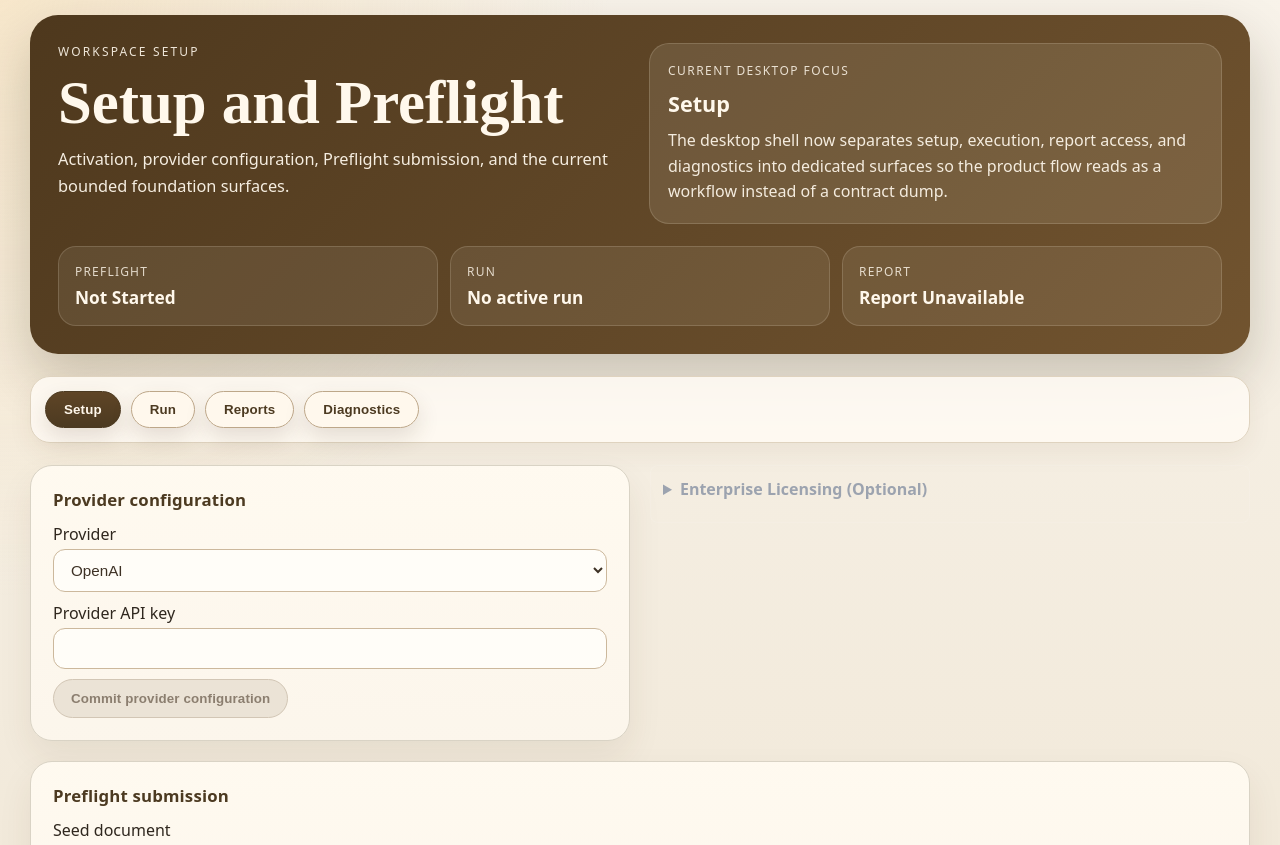
Test: App Wave 10 diagnostics › lets diagnostics apply a verified updater candidate and surface restart-request truth
Click the button "Diagnostics" at (362, 409), box [304, 391, 419, 428]
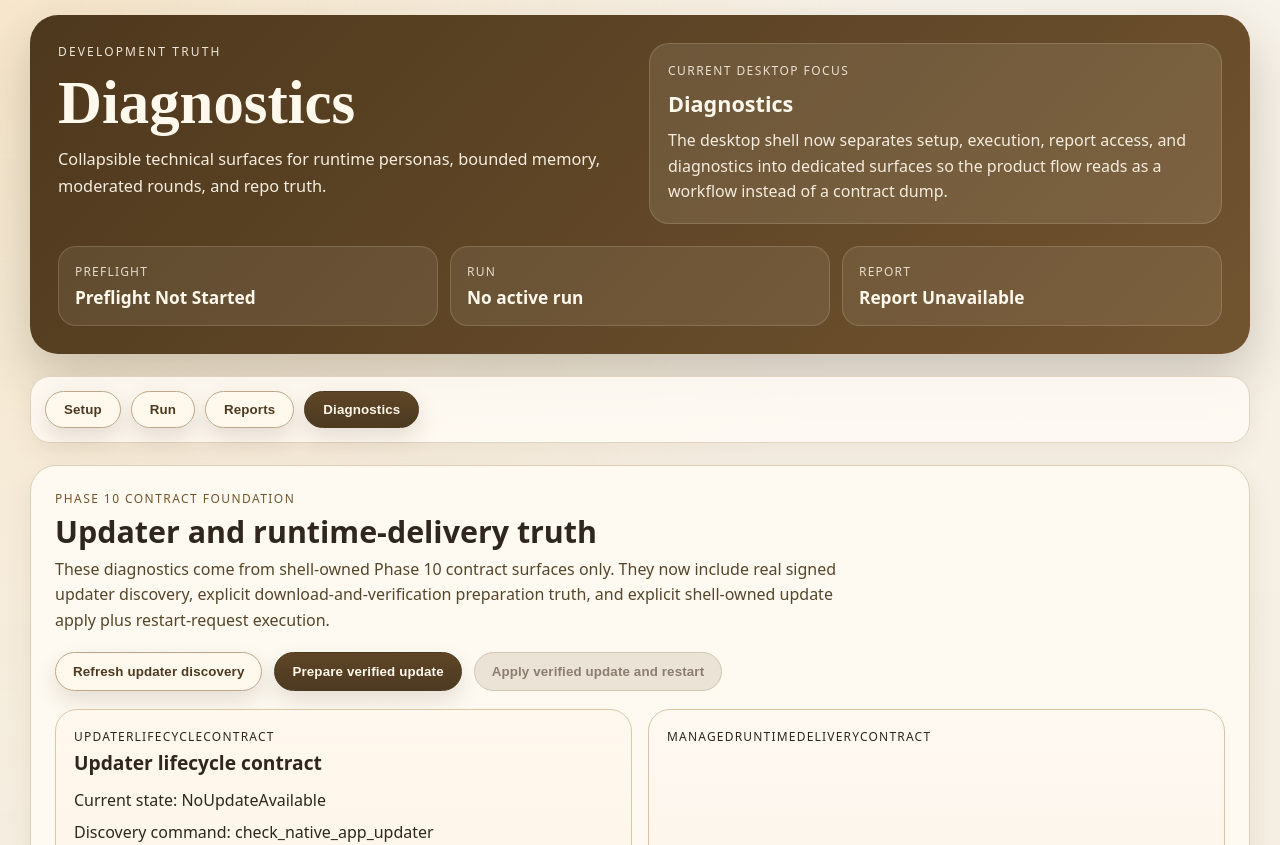
Expected: the button "Prepare verified update" is shown
Click the button "Prepare verified update" at (368, 671), box [274, 652, 462, 691]
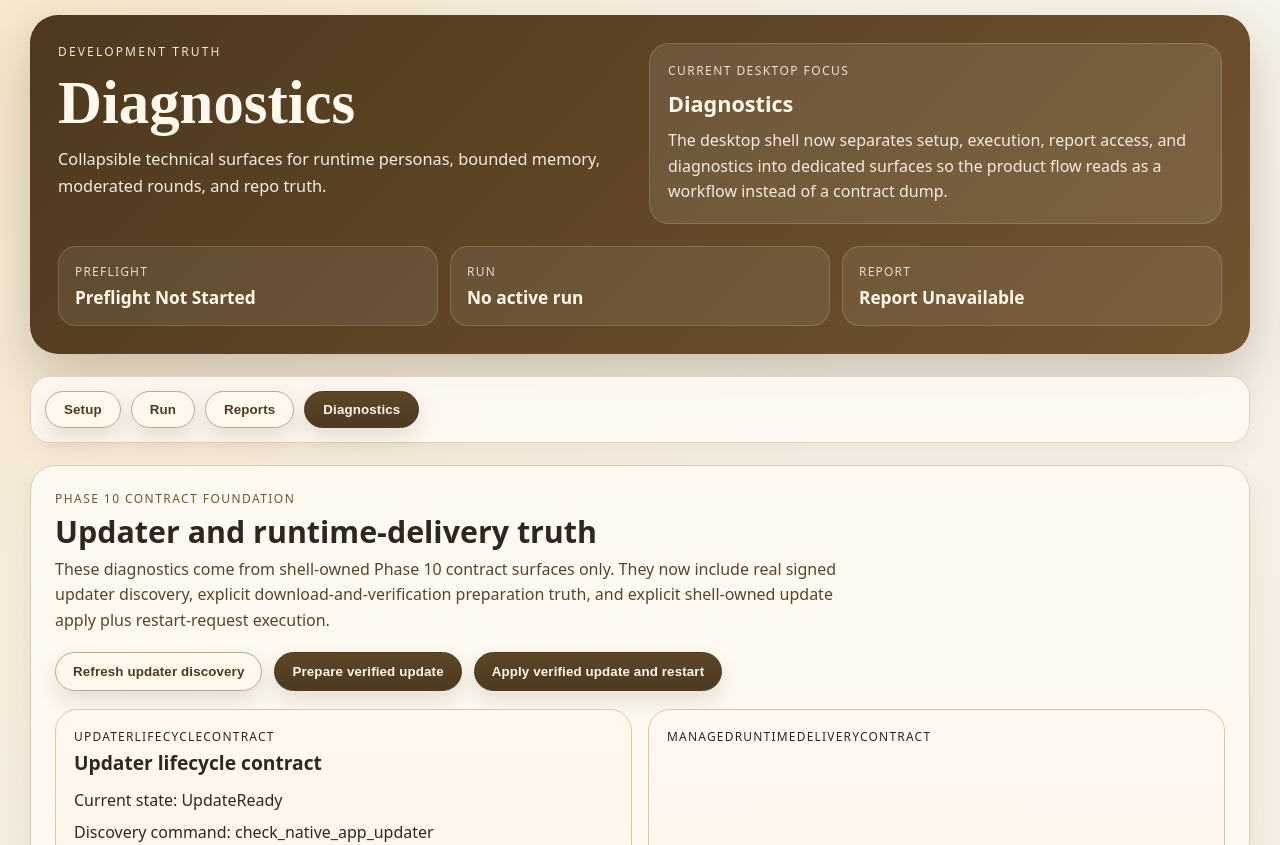
Click the button "Apply verified update and restart" at (598, 671), box [474, 652, 722, 691]
(page scrolled)
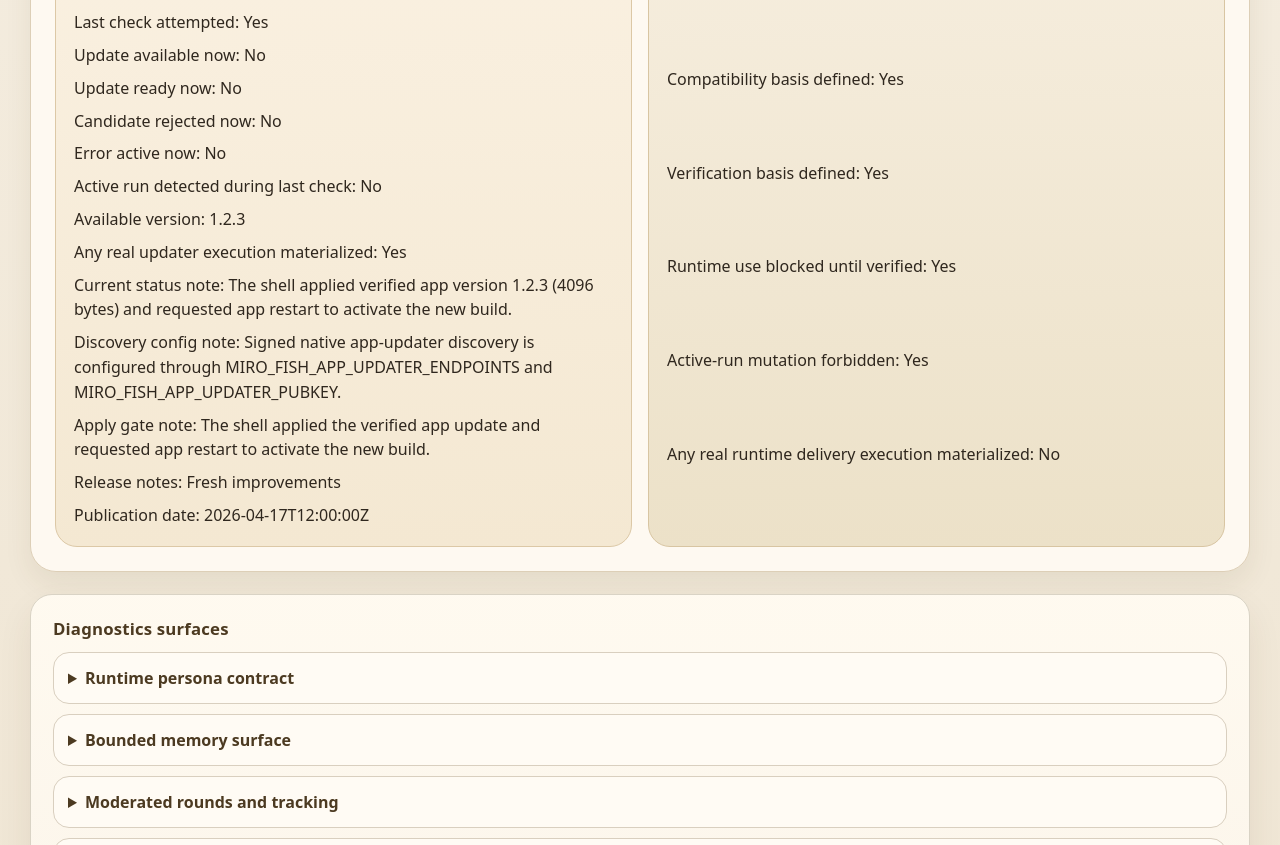
Expected: the text "Apply gate note: The shell applied the verified app update and requested app restart to activate the new build." is shown, [74, 412, 613, 462]
